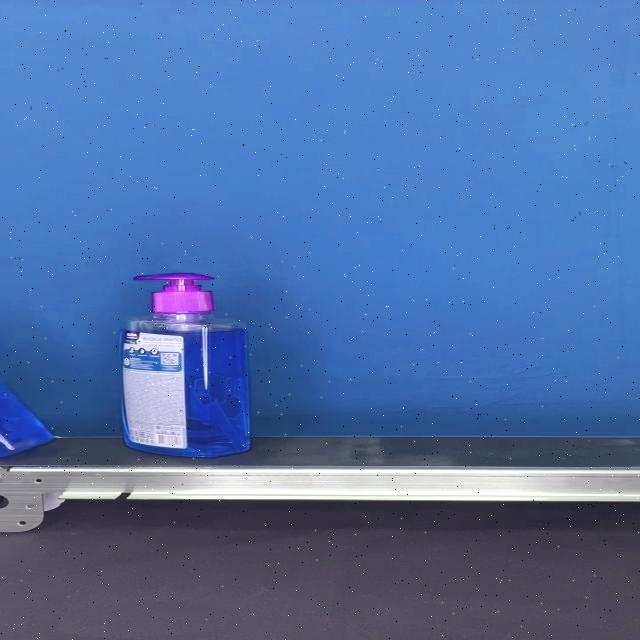Bottle: (118, 273, 250, 457)
Cap: (133, 273, 216, 315)
